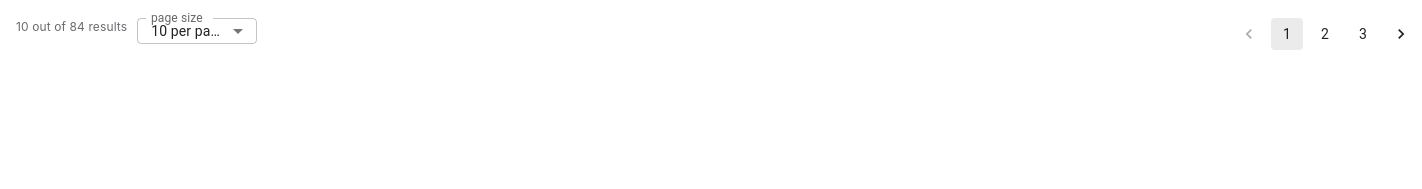
Test: PagingItem component › renders the given content of PagingItem
This screenshot has width=1422, height=189.
Expected: the text "10 out of 84 results" is shown, left=16, top=19, right=127, bottom=34
Expected: the text "page size" is shown, left=151, top=9, right=203, bottom=26
Step 1. Click the dropdown → [189, 31], box left=151, top=23, right=226, bottom=39
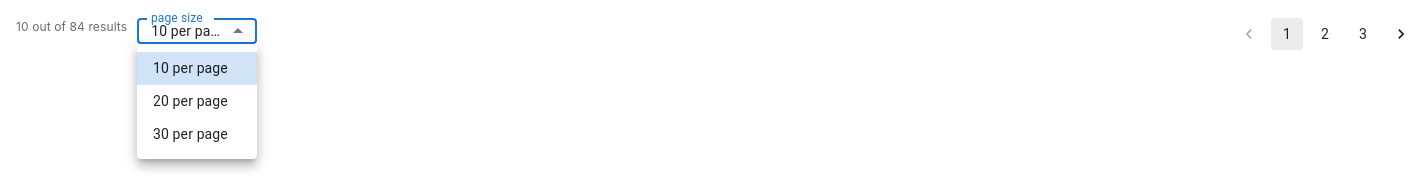
Expected: the number of options is 3, left=137, top=52, right=257, bottom=85; left=153, top=93, right=228, bottom=109; left=153, top=126, right=228, bottom=142
Expected: the option "10 per page" is shown, left=137, top=52, right=257, bottom=85
Expected: the option "20 per page" is shown, left=153, top=93, right=228, bottom=109
